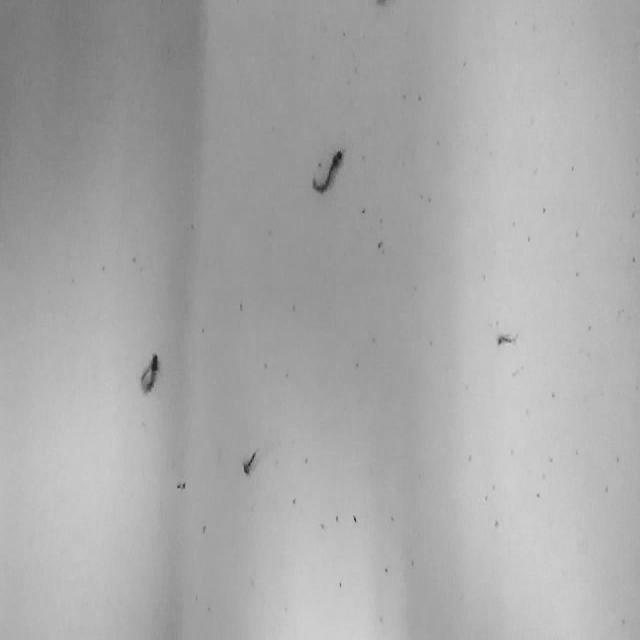larvas: (311, 148, 343, 192), (140, 353, 158, 392), (242, 447, 258, 474), (496, 333, 518, 344)
